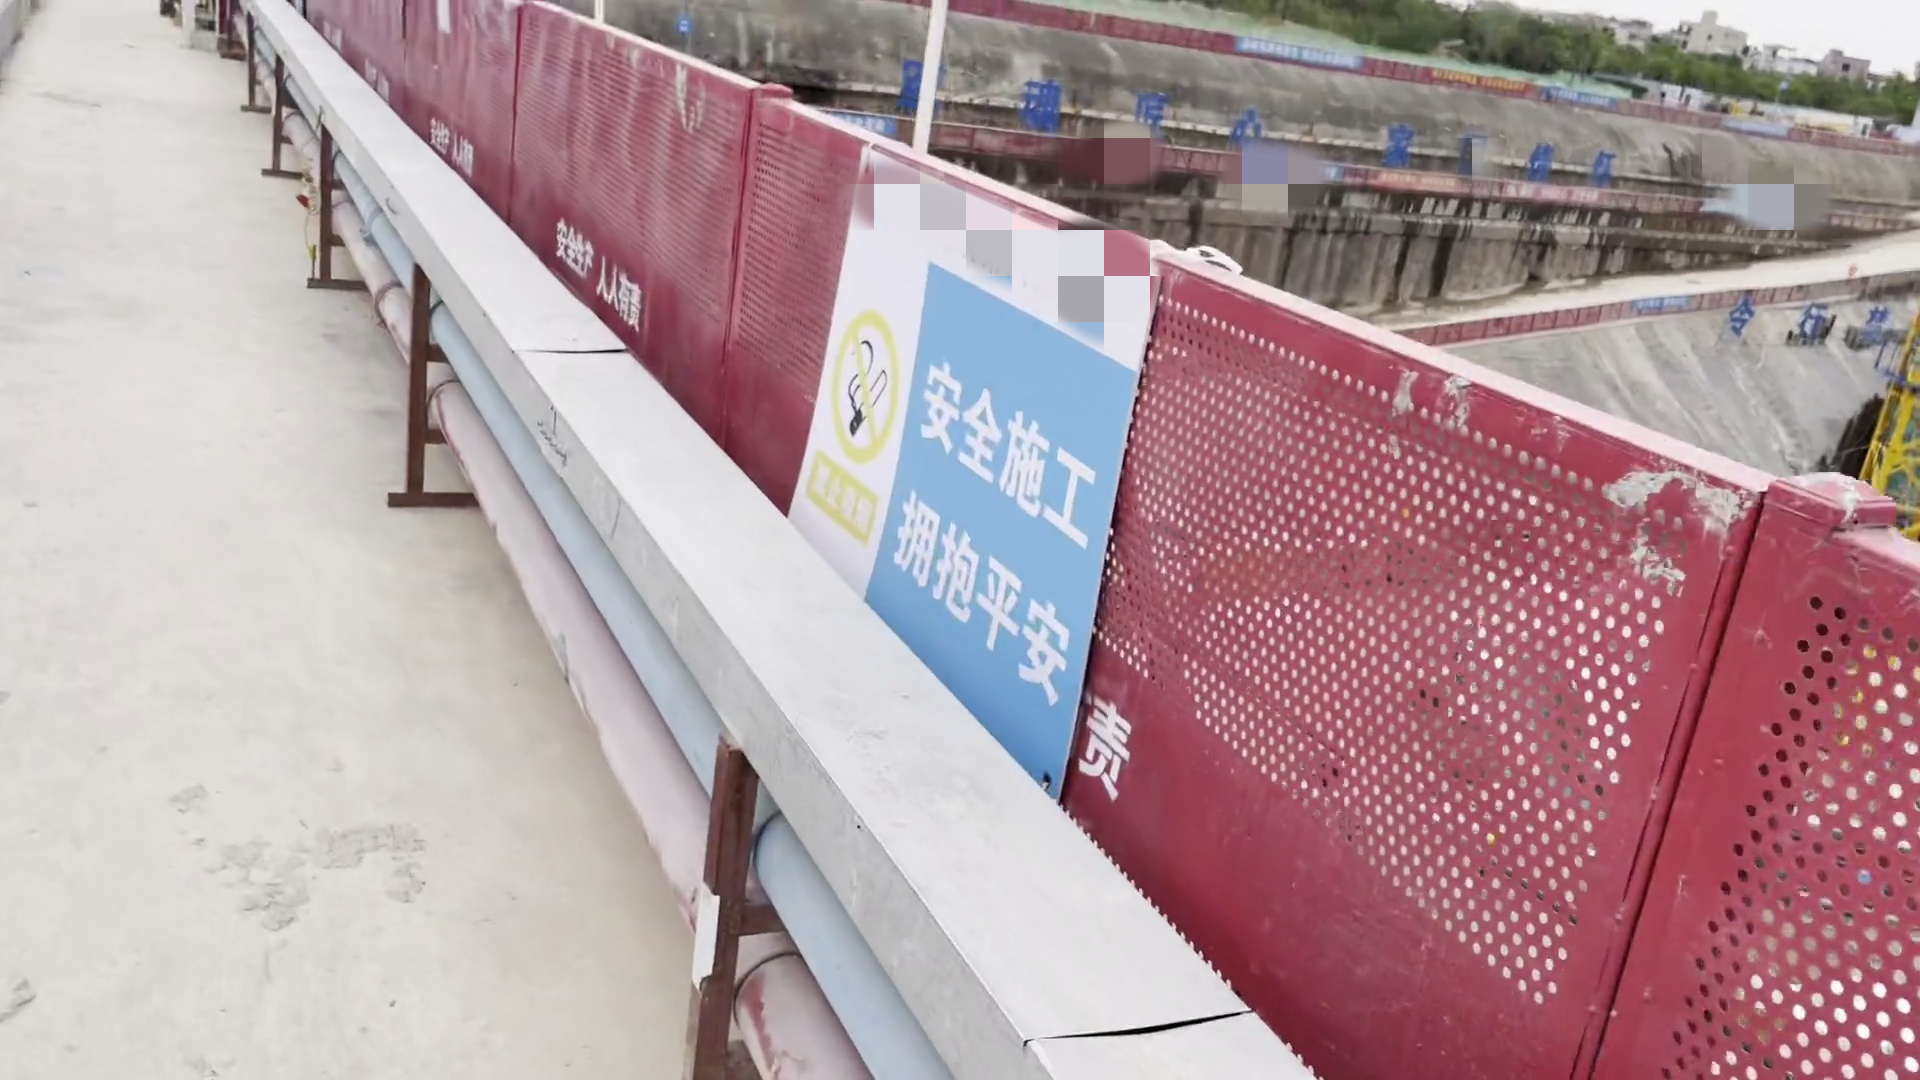fence: (1222, 278, 1920, 1080), (705, 74, 1236, 1005), (290, 1, 723, 442)
slogan: (738, 141, 1185, 828), (1495, 170, 1623, 218), (1226, 32, 1364, 70)
